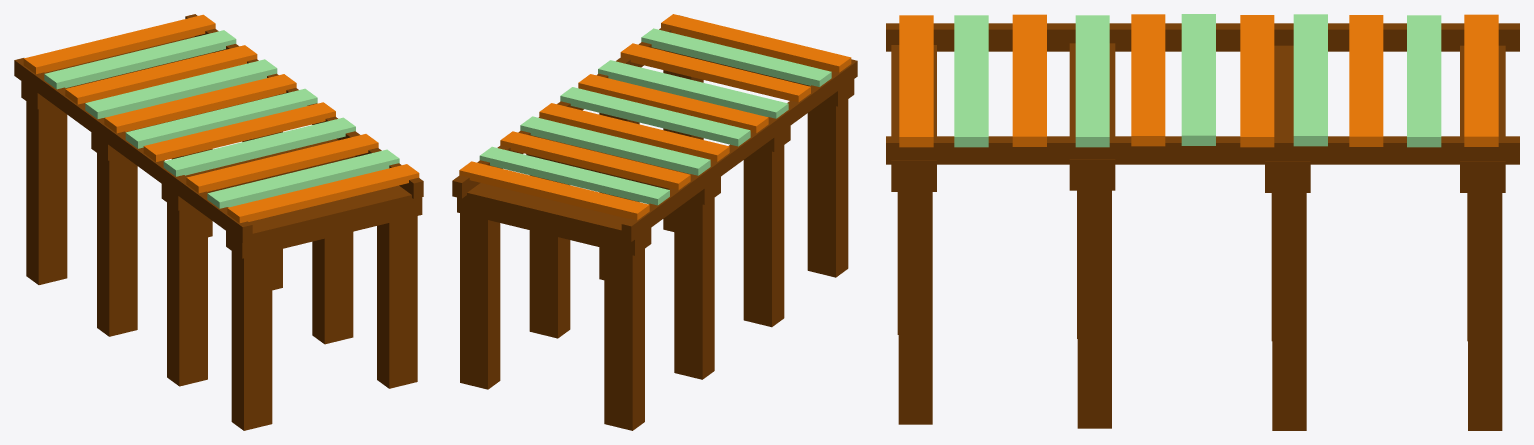
File: bridge2LowPoly.fbx
3 renders of one model, left to right at view 1: azimuth 30°, elevation 25°; view 2: azimuth 150°, elevation 25°; view 3: azimuth 270°, elevation 25°, orthographic. The views are drawn at different scales.
Visible parts, largest first — view 1: Duplicate12, Duplicate10, Duplicate11, Duplicate07, Duplicate09, Duplicate08, Duplicate04, Duplicate19, Duplicate14, Duplicate16, Duplicate21, Box04 (+9 smaller); view 2: Duplicate11, Duplicate10, Duplicate12, Duplicate07, Duplicate06, Duplicate04, Duplicate20, Box04, Duplicate14, Duplicate16, Duplicate00, Duplicate13 (+9 smaller); view 3: Box05, Duplicate12, Duplicate11, Duplicate10, Duplicate09, Duplicate04, Duplicate14, Duplicate17, Duplicate18, Box04, Duplicate13, Duplicate15 (+8 smaller).
Part boxes in pixels (x1,y1,x2,y2): Duplicate12: (161, 138, 355, 386); Duplicate10: (97, 131, 282, 336); Duplicate11: (26, 101, 212, 284); Duplicate07: (231, 251, 272, 430); Duplicate09: (377, 216, 417, 388); Duplicate08: (226, 185, 422, 258); Duplicate04: (14, 58, 252, 242); Duplicate19: (143, 102, 335, 161); Duplicate14: (23, 14, 215, 74); Duplicate16: (186, 134, 378, 193); Duplicate21: (104, 74, 296, 133); Box04: (85, 59, 277, 119); Duplicate11: (460, 213, 644, 430); Duplicate10: (529, 175, 714, 379); Duplicate12: (599, 113, 790, 327); Duplicate07: (807, 99, 848, 277); Duplicate06: (457, 183, 651, 255); Duplicate04: (621, 59, 857, 241); Duplicate20: (560, 87, 750, 146); Box04: (520, 116, 710, 175); Duplicate14: (459, 161, 649, 220); Duplicate16: (620, 43, 810, 102); Duplicate00: (500, 131, 690, 190); Duplicate13: (479, 146, 669, 205); Box05: (886, 136, 1519, 164); Duplicate12: (1069, 43, 1115, 428); Duplicate11: (1467, 193, 1502, 430); Duplicate10: (1271, 193, 1306, 430); Duplicate09: (898, 192, 932, 424); Duplicate04: (886, 23, 1519, 51); Duplicate14: (1464, 14, 1498, 146); Duplicate17: (954, 15, 988, 147); Duplicate18: (899, 15, 933, 147); Box04: (1293, 14, 1327, 146); Duplicate13: (1407, 15, 1441, 147); Duplicate15: (1075, 15, 1109, 147).
Size of the model in its own units: 47.99 by 55.62 by 105.
